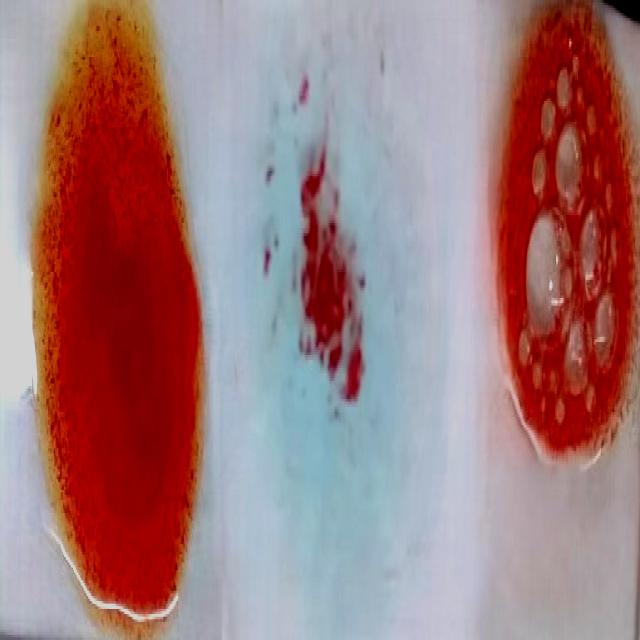A: (253, 12, 391, 498)
B: (34, 0, 199, 594)
D: (490, 0, 634, 477)
